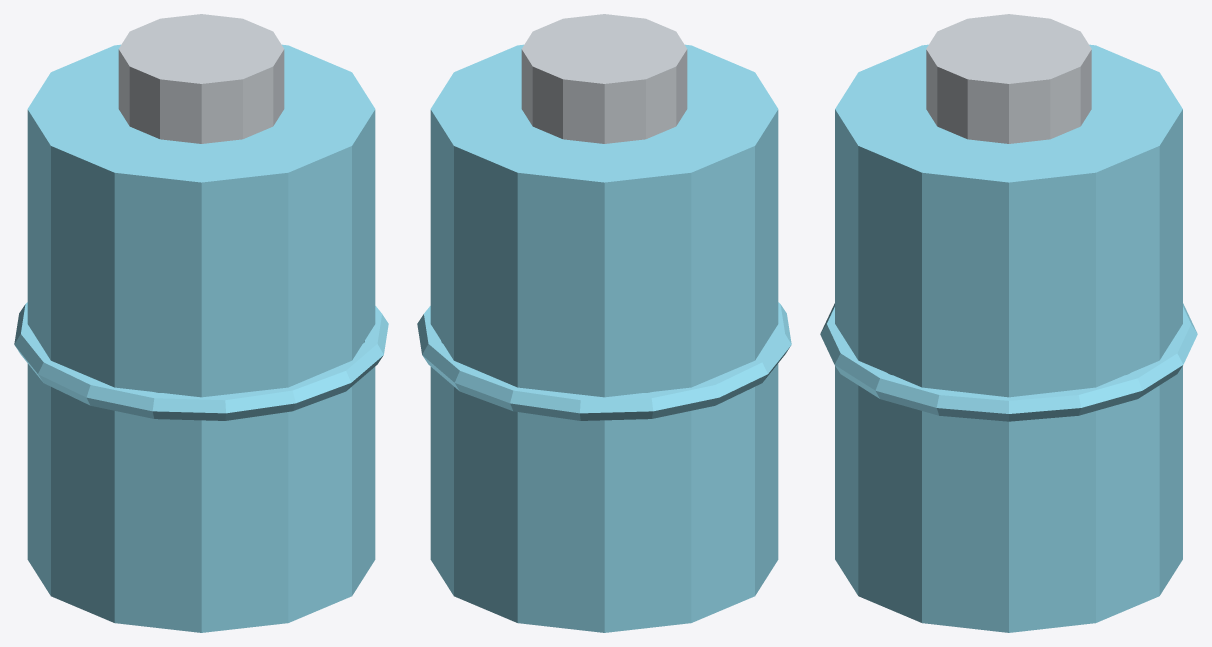
Rendered from bateria_2.glb.
3 views of the same model, side by side, from view 1: azimuth 30°, elevation 25°; view 2: azimuth 150°, elevation 25°; view 3: azimuth 270°, elevation 25° (orthographic).
Parts seen in each view (by area): view 1: celda, polo, franja; view 2: celda, polo, franja; view 3: celda, polo, franja.
Boxes of the visible parts, left/top/right/bottom form: celda: left=27, top=44, right=375, bottom=632; polo: left=118, top=14, right=284, bottom=143; franja: left=14, top=302, right=388, bottom=420; celda: left=430, top=44, right=778, bottom=632; polo: left=521, top=14, right=687, bottom=143; franja: left=417, top=302, right=791, bottom=420; celda: left=835, top=44, right=1182, bottom=632; polo: left=926, top=14, right=1091, bottom=143; franja: left=820, top=303, right=1197, bottom=421.
Size of the model in its own units: 0.6035 by 0.9 by 0.6035.
